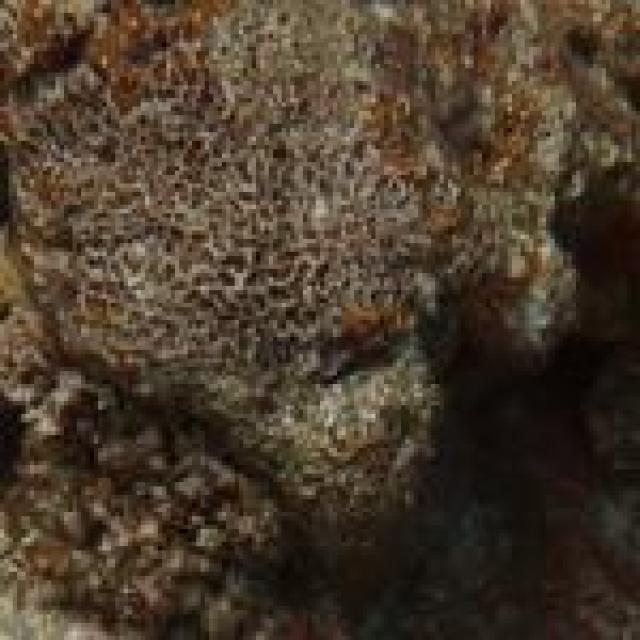Dead Coral: (56, 0, 427, 381)
